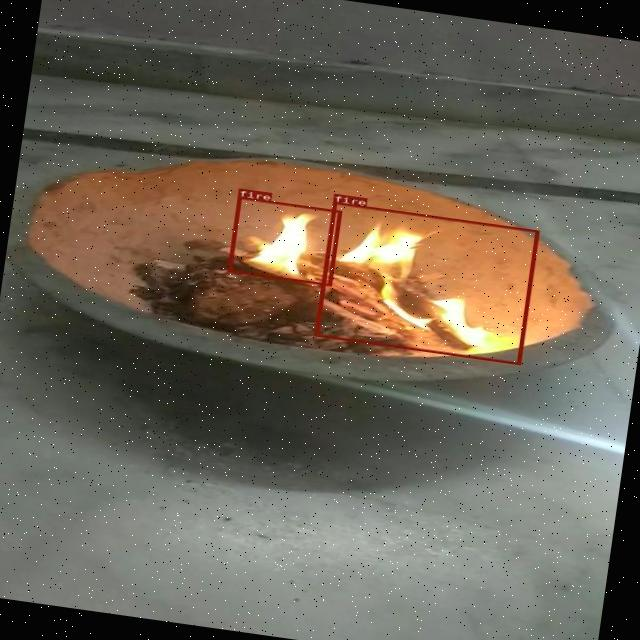fire: (314, 202, 538, 364), (226, 196, 342, 286)
